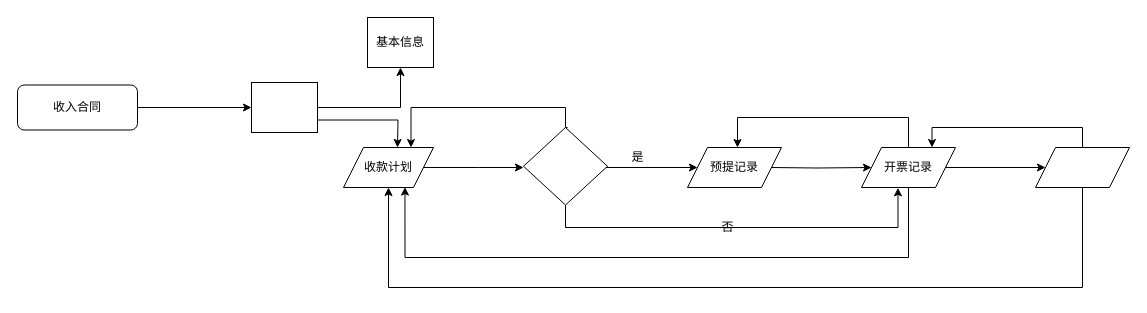
Image size: 1147x313. Some labels were removed from this diagram. The shapes that lost their labels are listed below. From the top down, each one's box as (x1, y1, x2, y2) in pixels, then its label:
(250, 82, 318, 132): 明细
(522, 126, 608, 205): 甲方确认记录
(1034, 146, 1130, 188): 到款记录
